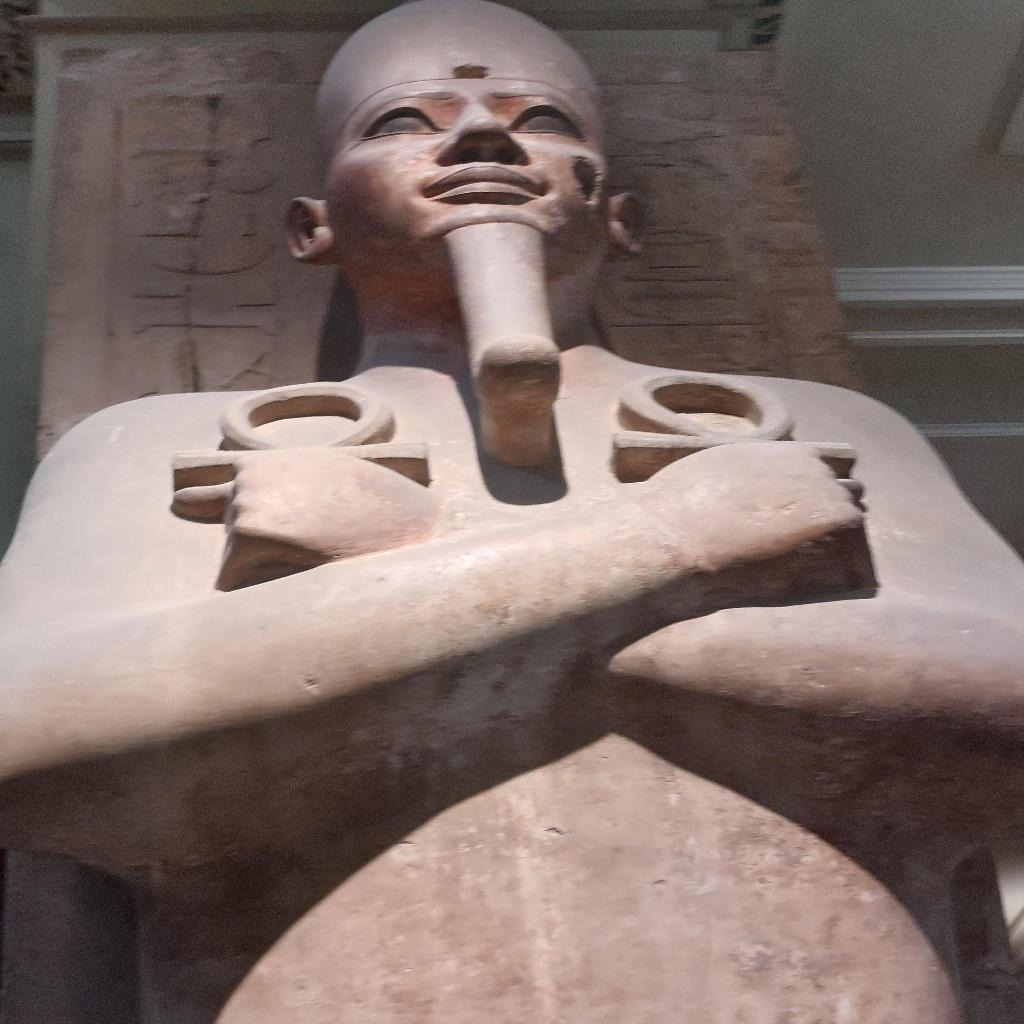Colossus of Senuseret I: (6, 4, 1015, 1018)
